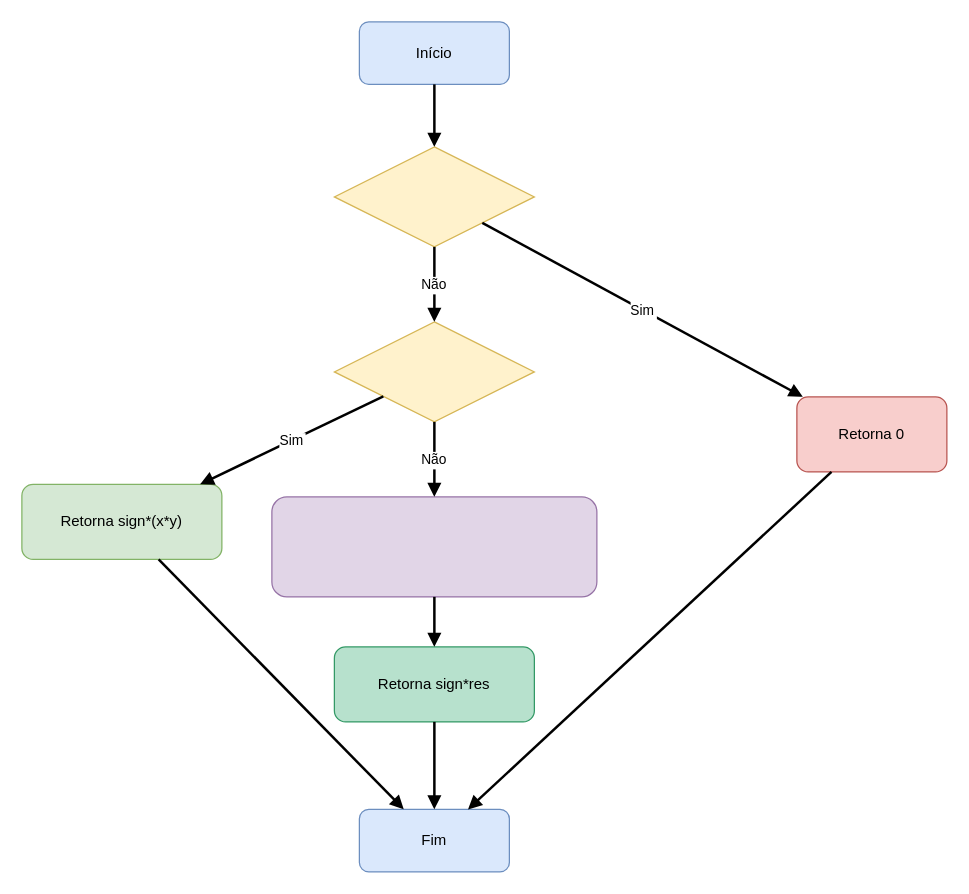
The diagram is 969 pixels wide and 894 high, and some of its shapes have lost their labels. Here are the shapes that lost their labels. From the top down, the centre of each, then its label:
At point (433, 196): "x == 0 ou y == 0 ?".
At point (433, 371): "x < 10 ou y < 10 ?".
At point (434, 546): "Divisão & Recursão (z0, z1, z2) n,m, split, recombinação".
